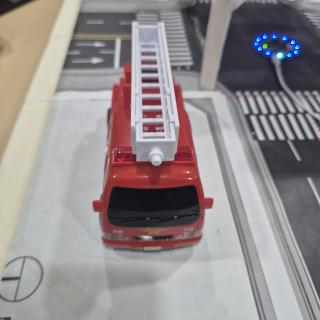Fire_truck: (93, 21, 213, 252)
